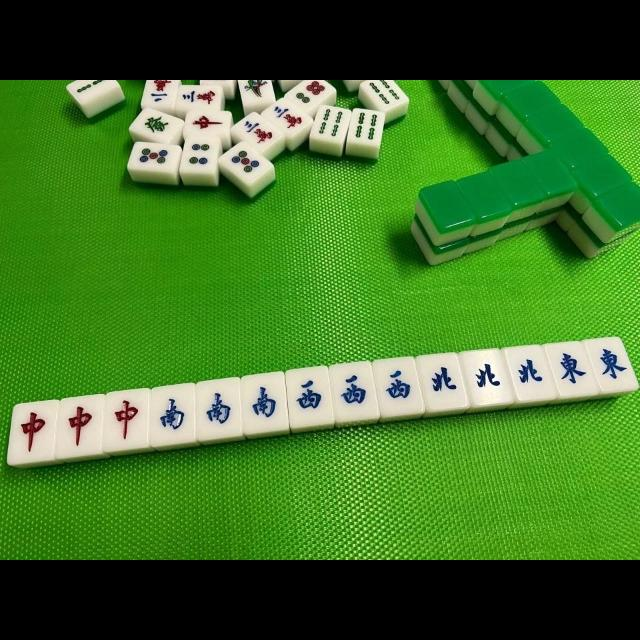b4: (347, 108, 383, 146), (312, 104, 348, 140), (364, 80, 406, 108)
c3: (233, 112, 280, 150), (267, 101, 309, 133), (176, 85, 222, 109)
d4: (182, 136, 218, 174)
d5: (220, 144, 272, 180), (128, 142, 178, 172)
d6: (284, 82, 334, 108)
dg: (130, 108, 182, 138)
dr: (10, 402, 56, 462), (58, 399, 102, 457), (106, 392, 148, 448), (185, 109, 231, 138)
we: (590, 338, 634, 392), (550, 344, 596, 394)
wn: (417, 352, 468, 412), (462, 349, 508, 407), (510, 347, 552, 399)
ws: (150, 388, 196, 444), (242, 374, 286, 432), (197, 382, 241, 438)
ww: (329, 363, 379, 423), (286, 367, 330, 427), (375, 358, 421, 414)
